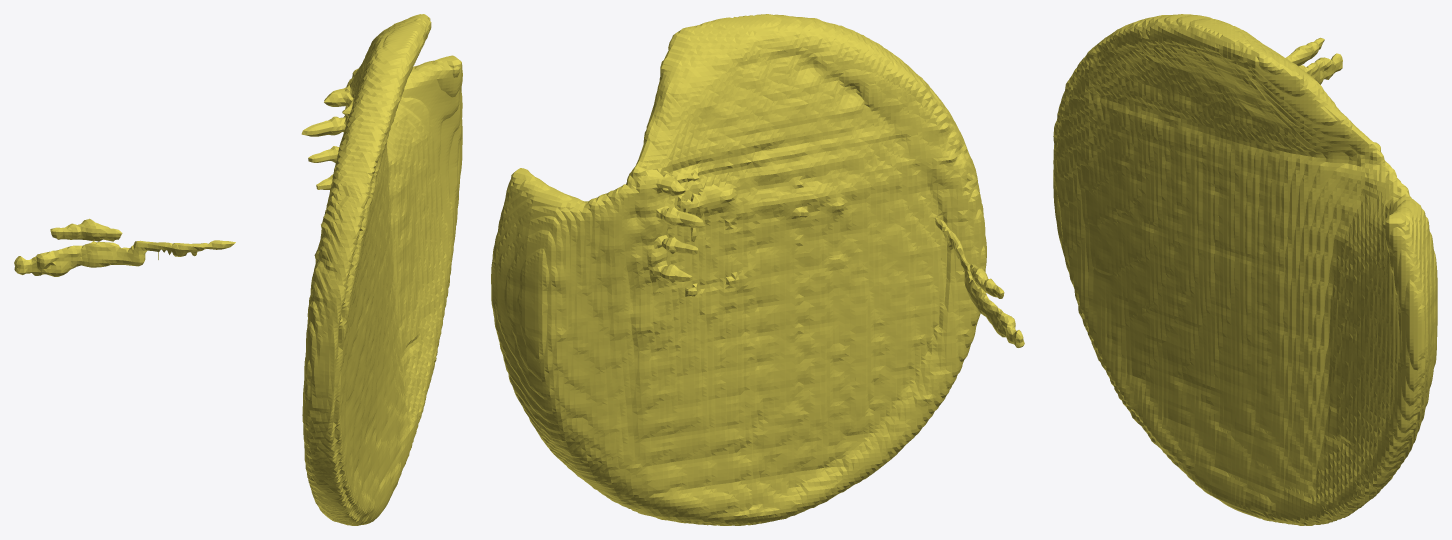
File: raw.glb
The picture shows the model from 3 angles, left to right: view 1: azimuth 30°, elevation 25°; view 2: azimuth 150°, elevation 25°; view 3: azimuth 270°, elevation 25°; orthographic projection. The views are drawn at different scales.
Visible parts, largest first — view 1: world; view 2: world; view 3: world.
Boxes of the visible parts, left/top/right/bottom form: world: left=14, top=14, right=462, bottom=525; world: left=491, top=14, right=1024, bottom=525; world: left=1053, top=14, right=1437, bottom=525.
Size of the model in its own units: 0.55 by 0.5226 by 0.3712.
